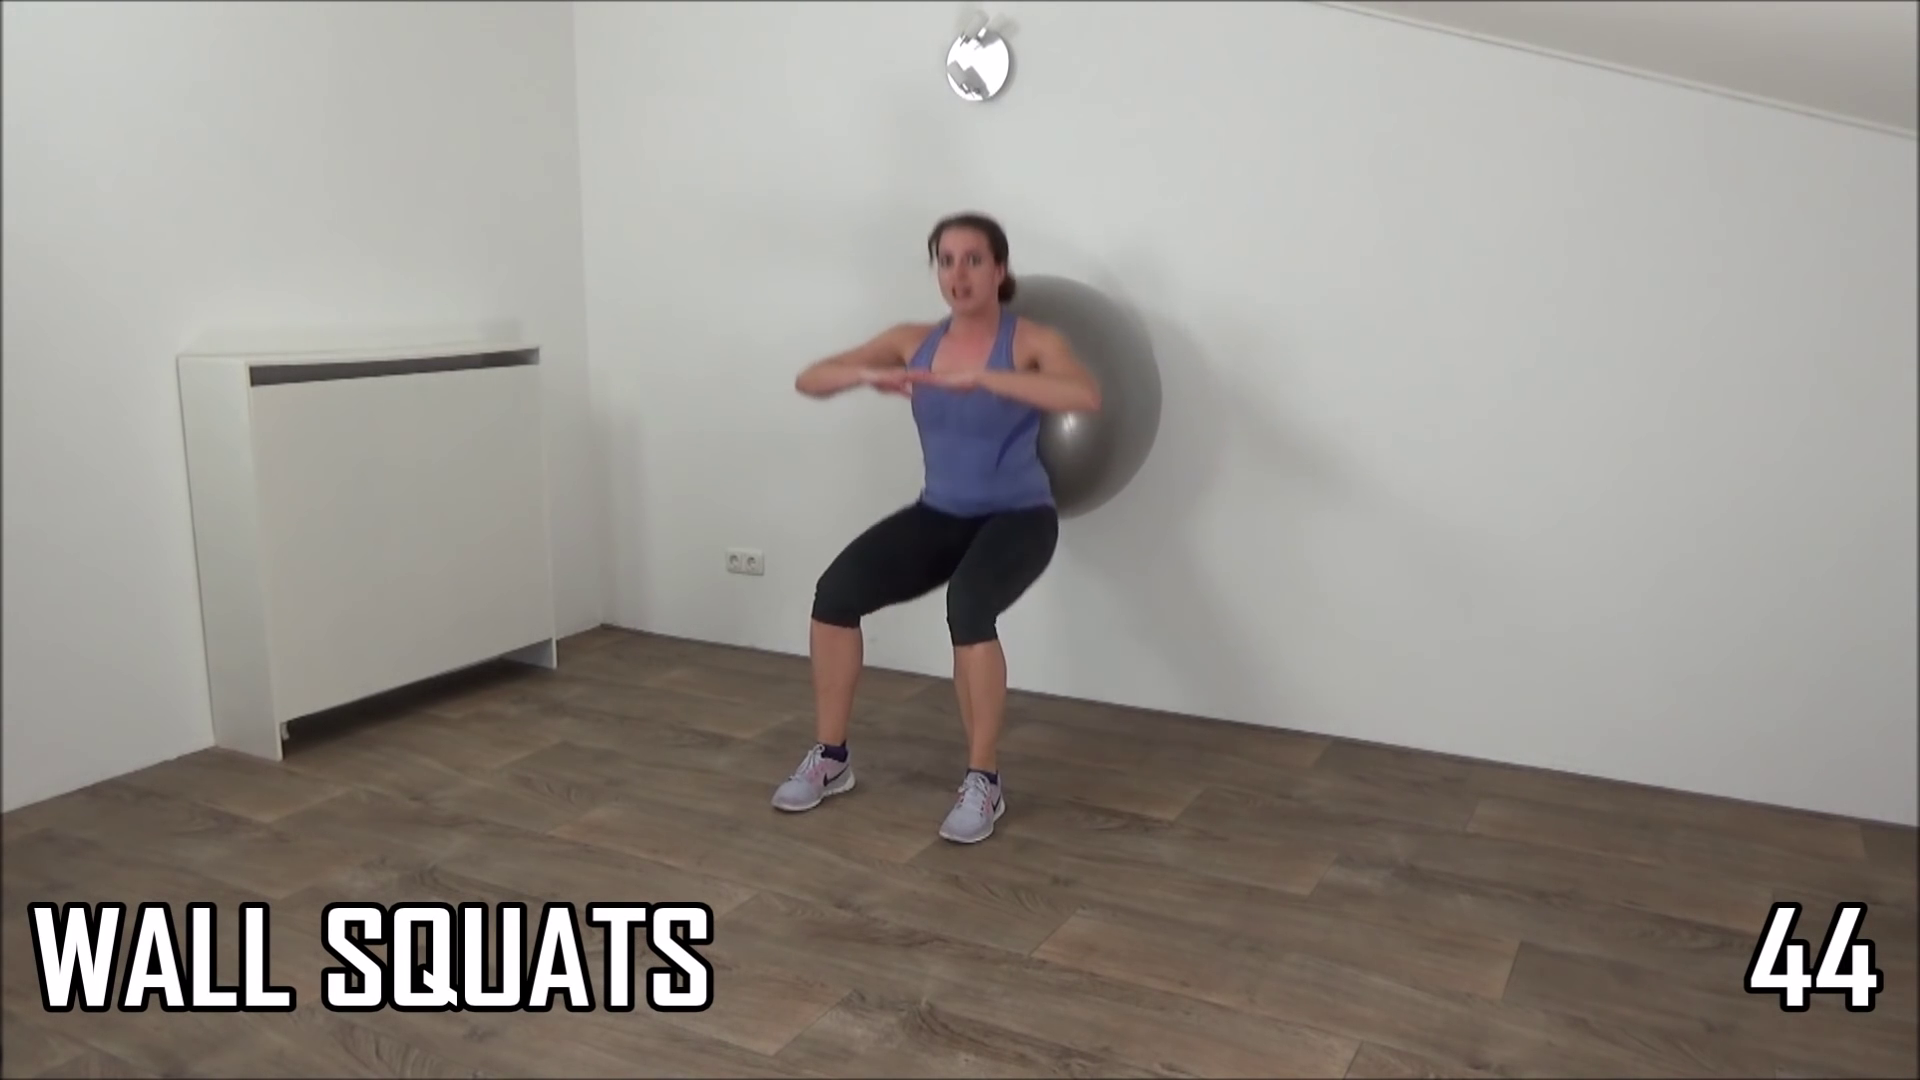yogaball: (943, 262, 1182, 520)
